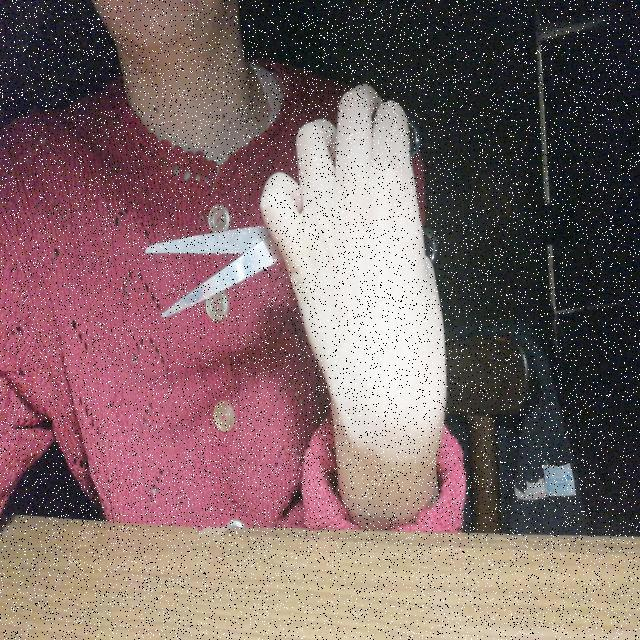scissors: (134, 83, 448, 335)
